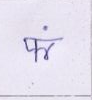anusvara: (43, 26, 47, 30)
